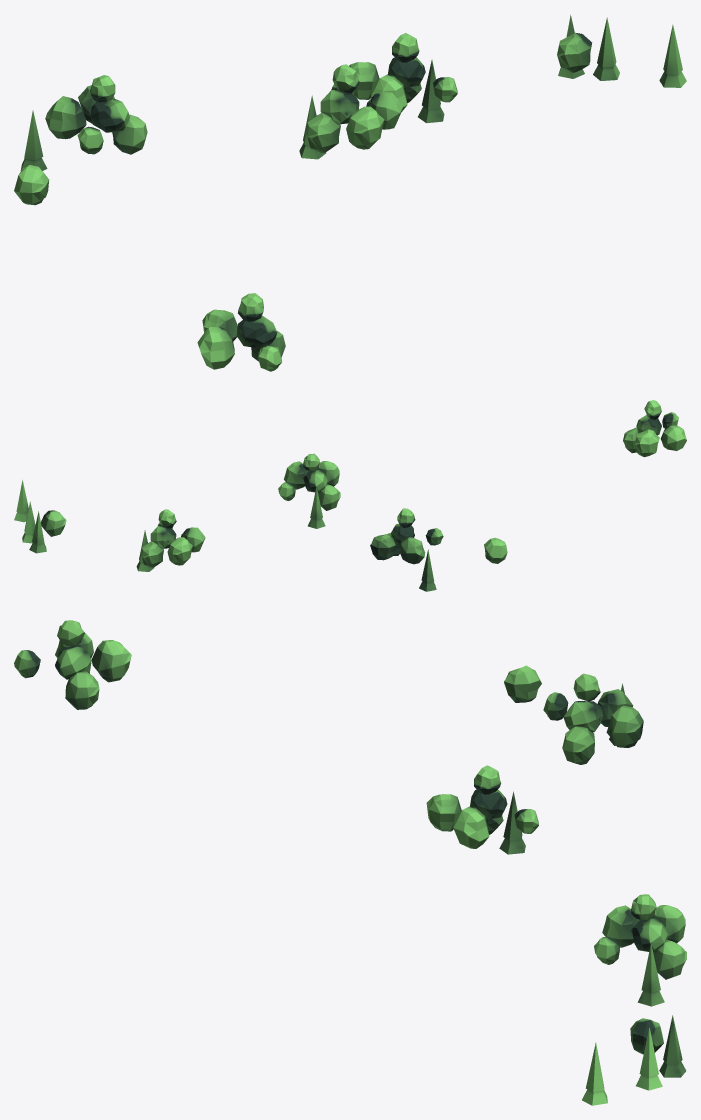
Rendered from Wood_04.FBX.
The picture shows the model from 3 angles, top to bottom: view 1: azimuth 30°, elevation 25°; view 2: azimuth 150°, elevation 25°; view 3: azimuth 270°, elevation 25°; orthographic projection. The views are drawn at different scales.
Parts seen in each view (by area): view 1: Wood_04; view 2: Wood_04; view 3: Wood_04.
Boxes of the visible parts, x1=… form: Wood_04: x1=14, y1=14, x2=686, y2=371; Wood_04: x1=14, y1=400, x2=686, y2=591; Wood_04: x1=14, y1=620, x2=686, y2=1105.
Bounding box in the file's own units: 33.99 × 6.64 × 26.74.
